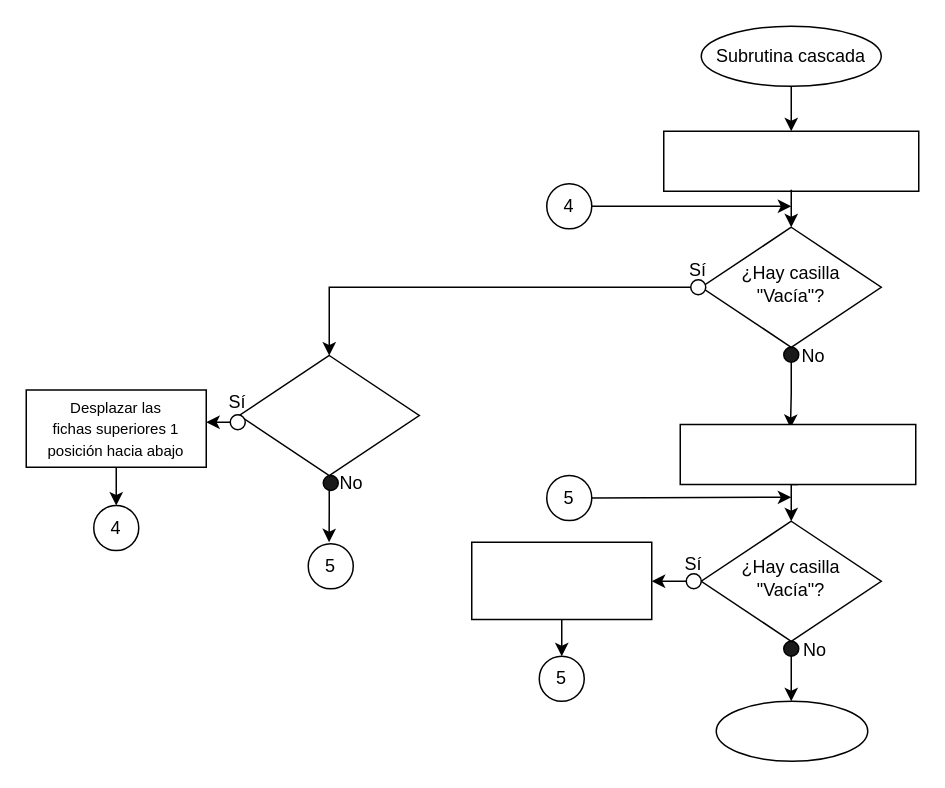
Image size: 945x788. Some labels were removed from this diagram. The shapes that lost their labels are listed below. From the top down, each one's centre as x and y in pixels, then its label:
At point (790, 160): "Recorrer cada columna de abajo hacia arriba.".
At point (328, 415): "¿Hay fichas por encima".
At point (797, 453): "Recorrer la primera fila (casillas superiores)".
At point (561, 580): "Generar y escribir una ficha random".
At point (791, 730): "Fin Sub".
